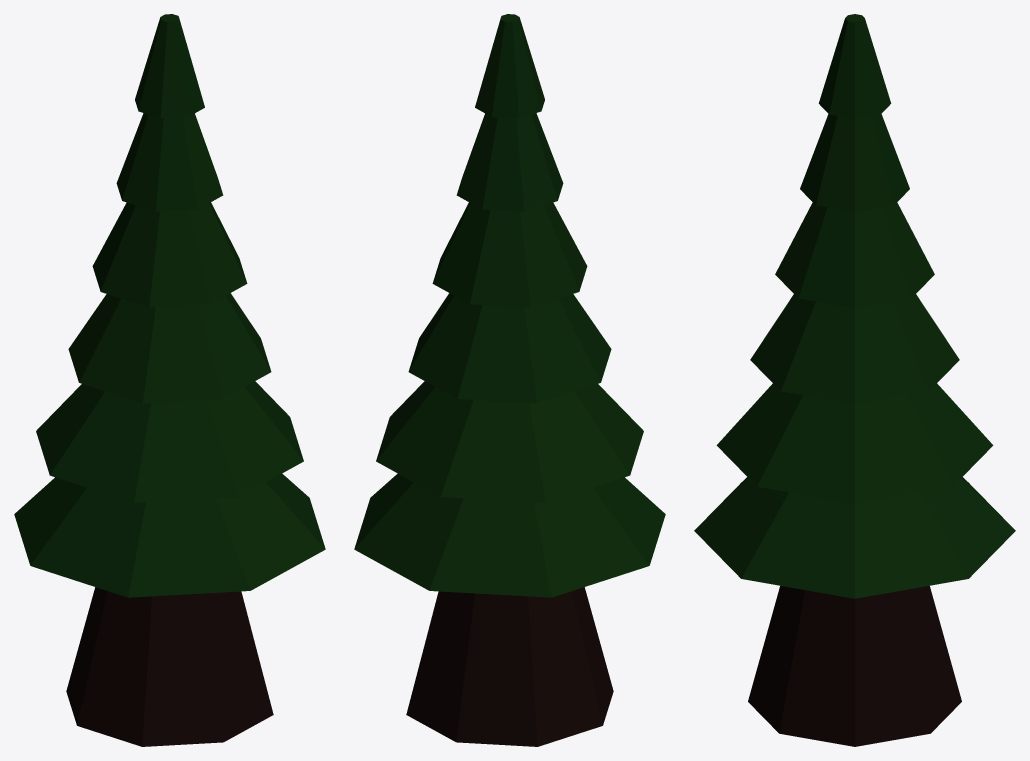
The model's file is PineTree.obj.
The picture shows the model from 3 angles, left to right: view 1: azimuth 30°, elevation 25°; view 2: azimuth 150°, elevation 25°; view 3: azimuth 270°, elevation 25°; orthographic projection.
Parts seen in each view (by area): view 1: Cylinder; view 2: Cylinder; view 3: Cylinder.
Boxes of the visible parts, box(x1,y1,x2,y2) form: Cylinder: box(14, 14, 325, 746); Cylinder: box(354, 14, 665, 746); Cylinder: box(694, 14, 1015, 746).
Size of the model in its own units: 2.88 by 6.74 by 2.88.
